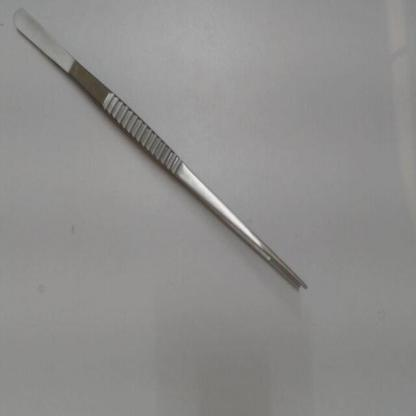DeBakey Dissector: (10, 4, 318, 308)
